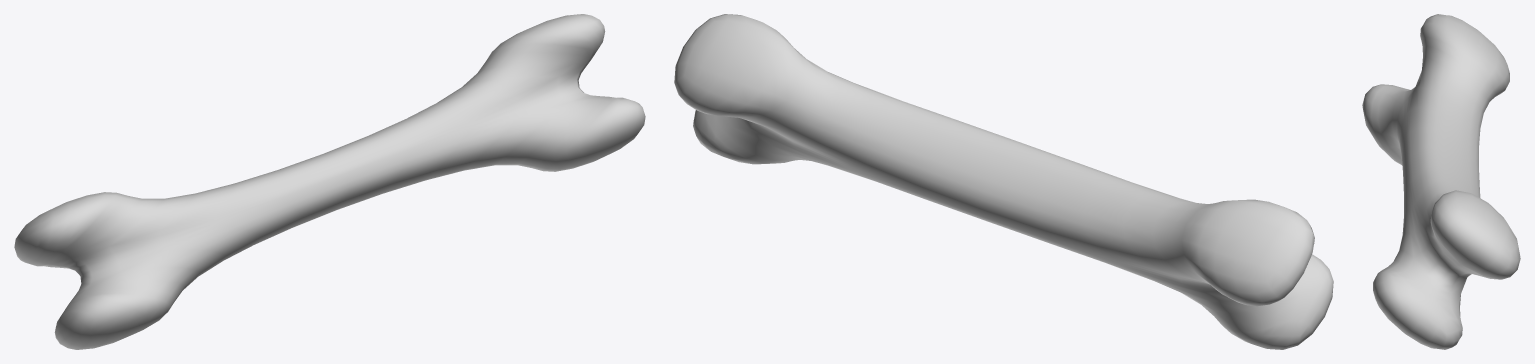
The model's file is accessoryPrimitive7.fbx.
3 renders of one model, left to right at view 1: azimuth 30°, elevation 25°; view 2: azimuth 150°, elevation 25°; view 3: azimuth 270°, elevation 25°, orthographic. The views are drawn at different scales.
Visible parts, largest first — view 1: Untitled.001; view 2: Untitled.001; view 3: Untitled.001.
Part boxes in pixels (left/top/right/bottom): Untitled.001: left=14, top=14, right=645, bottom=349; Untitled.001: left=674, top=14, right=1333, bottom=349; Untitled.001: left=1362, top=14, right=1520, bottom=349.
Size of the model in its own units: 0.2914 by 0.0928 by 0.0675.
1 material, 1 textured.
